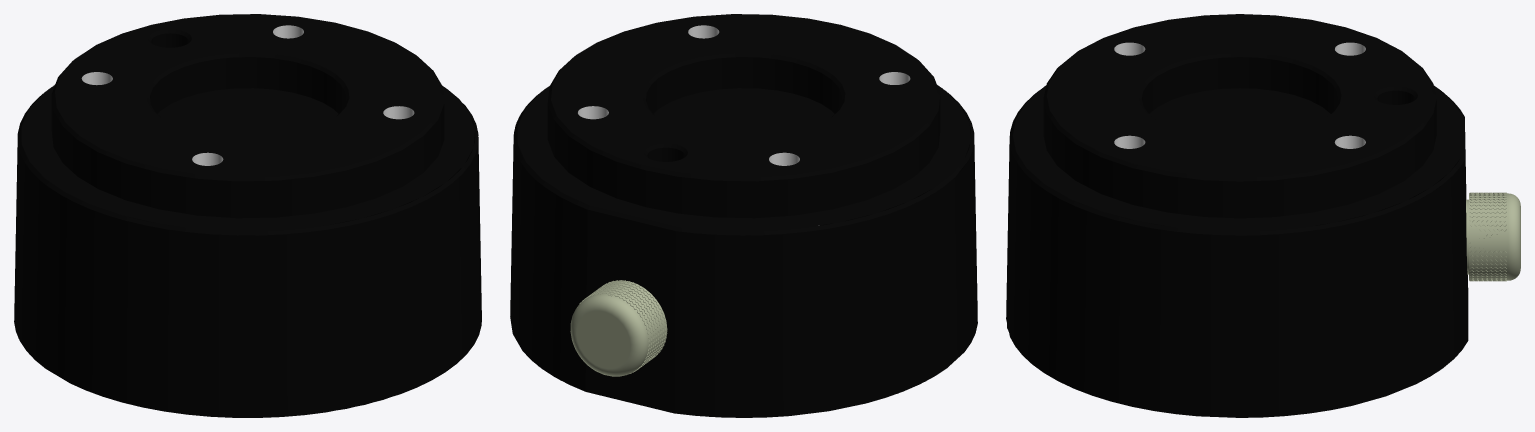
The model's file is wrist3_Link.DAE.
3 renders of one model, left to right at view 1: azimuth 30°, elevation 25°; view 2: azimuth 150°, elevation 25°; view 3: azimuth 270°, elevation 25°, orthographic.
Parts seen in each view (by area): view 1: NONE-DC_Shell_ncl1_5; view 2: NONE-DC_Shell_ncl1_5, NONE-DC_Shell_ncl1_10; view 3: NONE-DC_Shell_ncl1_5, NONE-DC_Shell_ncl1_10.
Part boxes in pixels (x1=…): NONE-DC_Shell_ncl1_5: x1=14, y1=14, x2=481, y2=417; NONE-DC_Shell_ncl1_5: x1=510, y1=14, x2=977, y2=417; NONE-DC_Shell_ncl1_10: x1=570, y1=280, x2=667, y2=376; NONE-DC_Shell_ncl1_5: x1=1006, y1=14, x2=1468, y2=417; NONE-DC_Shell_ncl1_10: x1=1466, y1=192, x2=1520, y2=281.
Size of the model in its own units: 0.075 by 0.0825 by 0.0395.
